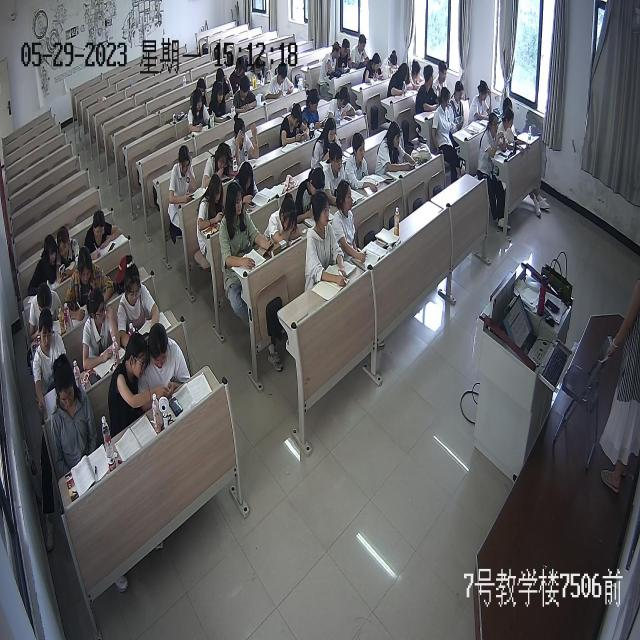distracted: (49, 359, 96, 473), (109, 332, 153, 426), (29, 236, 60, 295), (230, 117, 261, 164), (432, 88, 453, 149), (418, 64, 438, 112), (319, 40, 342, 81), (409, 60, 426, 93), (338, 39, 352, 72)
focused: (118, 256, 161, 343), (309, 194, 348, 288), (66, 249, 116, 321), (31, 313, 70, 398), (81, 288, 121, 369), (333, 179, 367, 260), (344, 131, 377, 196), (198, 172, 226, 237), (84, 213, 123, 259), (324, 143, 350, 209), (296, 162, 326, 218), (28, 285, 62, 330), (313, 118, 343, 166), (480, 112, 507, 160), (267, 62, 296, 103), (232, 75, 258, 115), (385, 59, 410, 99), (471, 78, 492, 124), (210, 82, 233, 123), (498, 104, 519, 148), (449, 79, 467, 129), (351, 33, 372, 71), (434, 61, 453, 102), (228, 55, 249, 91), (362, 50, 383, 86), (249, 56, 269, 90), (380, 48, 399, 78)
sleep: (266, 192, 304, 246)
using_phone: (221, 185, 275, 271), (138, 325, 190, 404), (376, 119, 423, 177), (53, 227, 82, 286), (168, 144, 196, 205), (202, 142, 233, 191), (280, 103, 311, 146), (327, 86, 356, 128), (233, 162, 260, 206), (188, 87, 212, 135), (302, 89, 326, 133), (215, 68, 234, 106)
